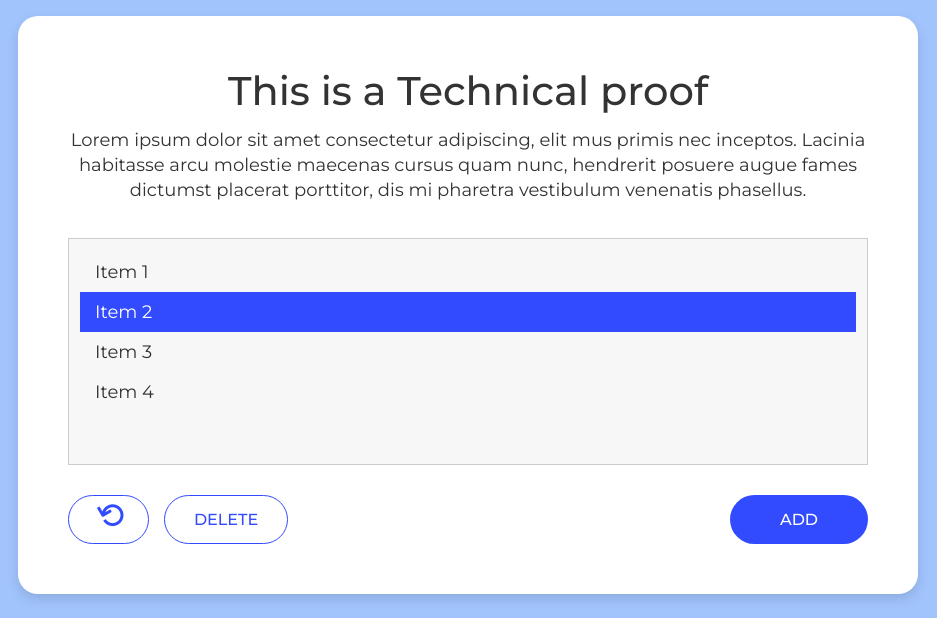
Test: Main component › doble click deletes item
Double-click the list item "Item 2" at (468, 312), box [80, 292, 856, 332]
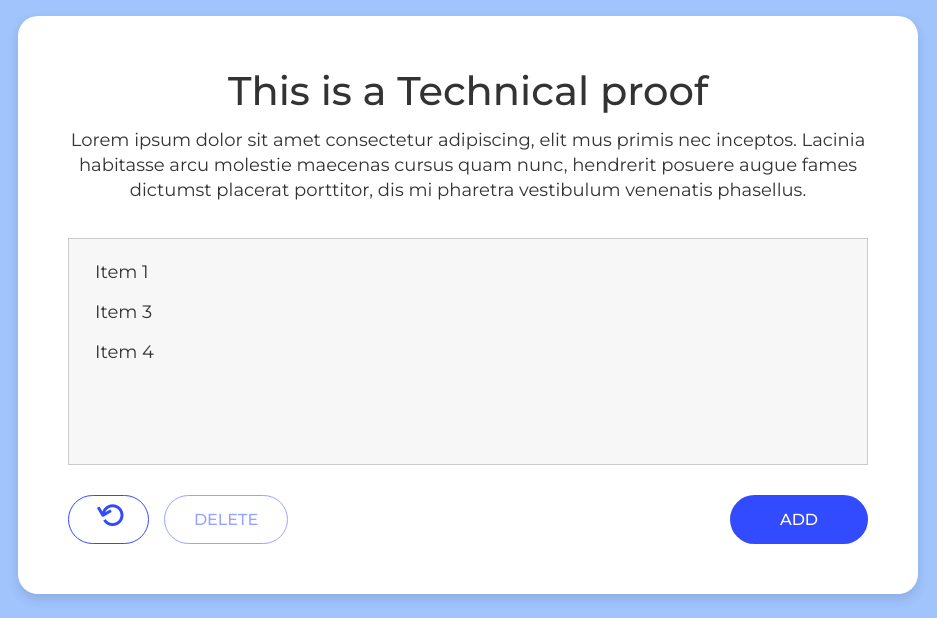
Check: the list item "Item 2" is gone
